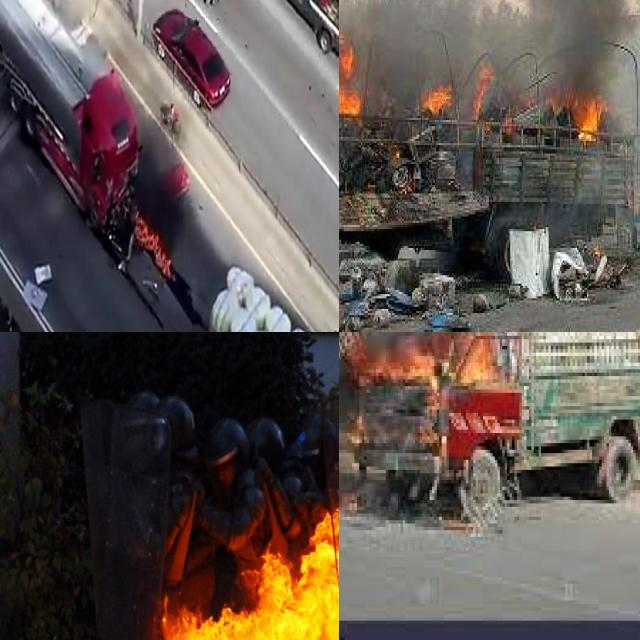fire: (61, 497, 339, 640), (339, 332, 521, 406), (414, 59, 506, 131), (339, 27, 371, 120), (559, 84, 607, 146), (133, 212, 172, 278)
smoke: (339, 0, 640, 181)
